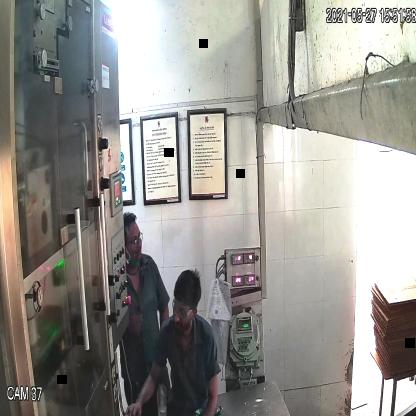goggles: (170, 297, 195, 320)
